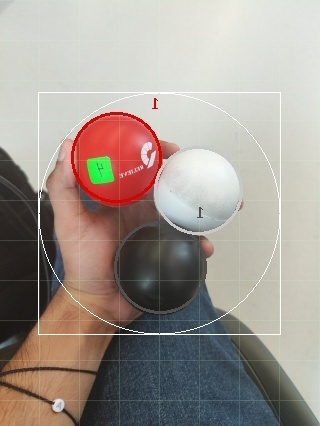Pelota blanca: (154, 145, 246, 235)
Pelota negra: (114, 220, 209, 315)
Pelota roja: (71, 110, 164, 206), (199, 236, 217, 259)
